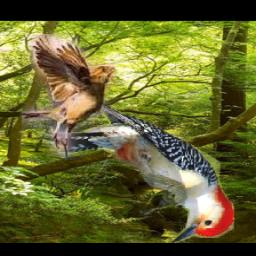Sparrow: (22, 35, 115, 161)
Woodpecker: (40, 101, 234, 243)
